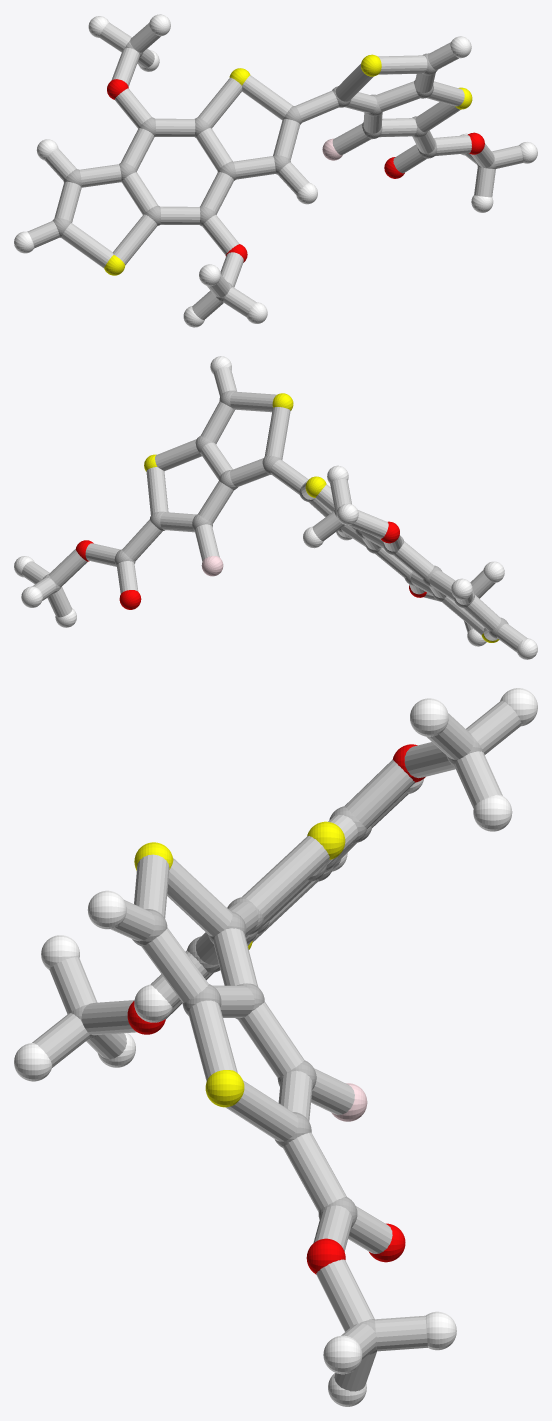
The model's file is color.glb.
3 renders of one model, top to bottom at view 1: azimuth 30°, elevation 25°; view 2: azimuth 150°, elevation 25°; view 3: azimuth 270°, elevation 25°, orthographic. The views are drawn at different scales.
Visible parts, largest first — view 1: grp15205, grp8689, grp1, grp7241, grp13395; view 2: grp15205, grp8689, grp1, grp13395, grp7241, grp14843; view 3: grp15205, grp8689, grp1, grp7241, grp13395.
Part boxes in pixels (x1,y1,x2,y2): grp15205: (27, 22, 523, 319); grp8689: (14, 14, 537, 327); grp1: (52, 41, 495, 301); grp7241: (104, 54, 472, 275); grp13395: (107, 79, 484, 262); grp15205: (22, 367, 527, 652); grp8689: (14, 356, 537, 659); grp1: (42, 390, 508, 638); grp13395: (76, 521, 426, 609); grp7241: (144, 393, 498, 642); grp14843: (201, 556, 223, 576); grp15205: (32, 700, 521, 1391); grp8689: (14, 688, 537, 1406); grp1: (70, 737, 483, 1354); grp7241: (134, 821, 345, 1107); grp13395: (127, 744, 425, 1274).
Size of the model in its own units: 16.52 by 7.59 by 8.07.
